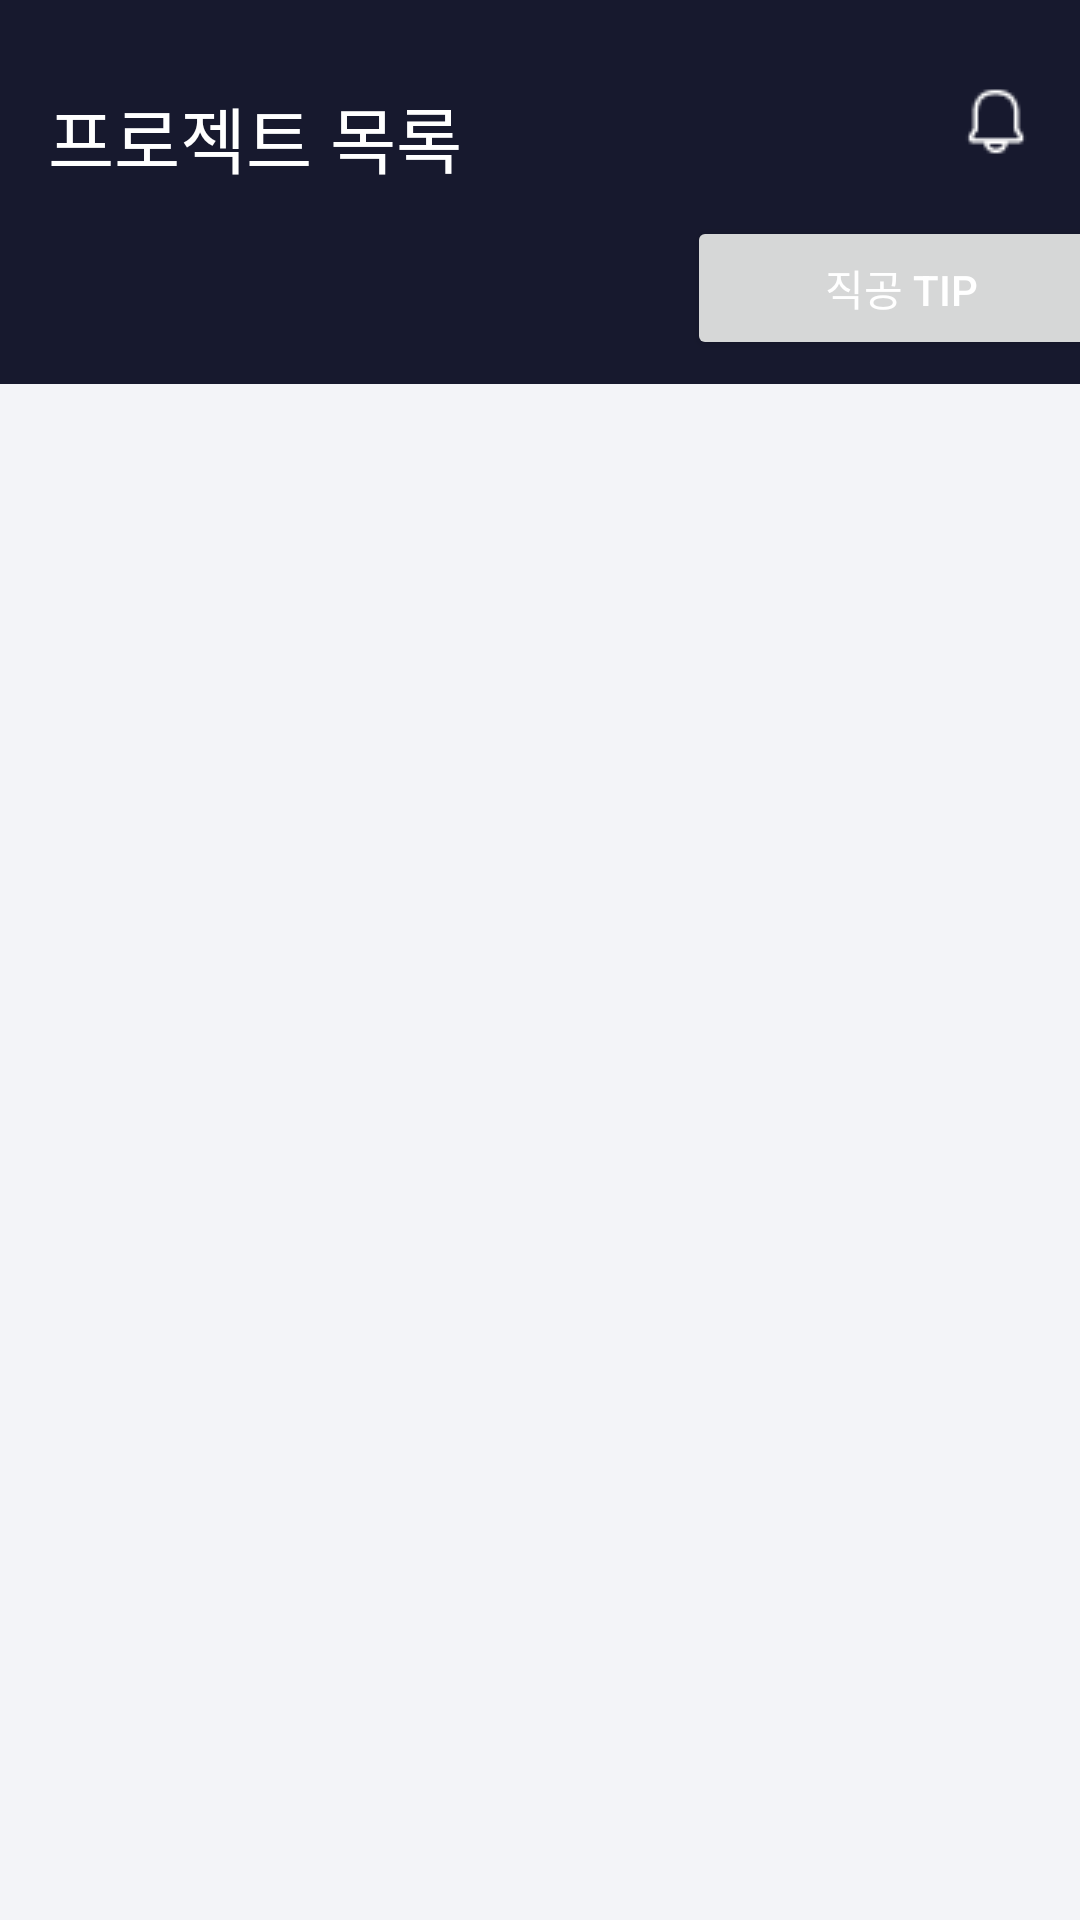

Locate icon controls on the screen. Image size 1080w x 1920h, boxes as detection(x1, y1, x2, y2).
notification: detection(968, 89, 1024, 154)
